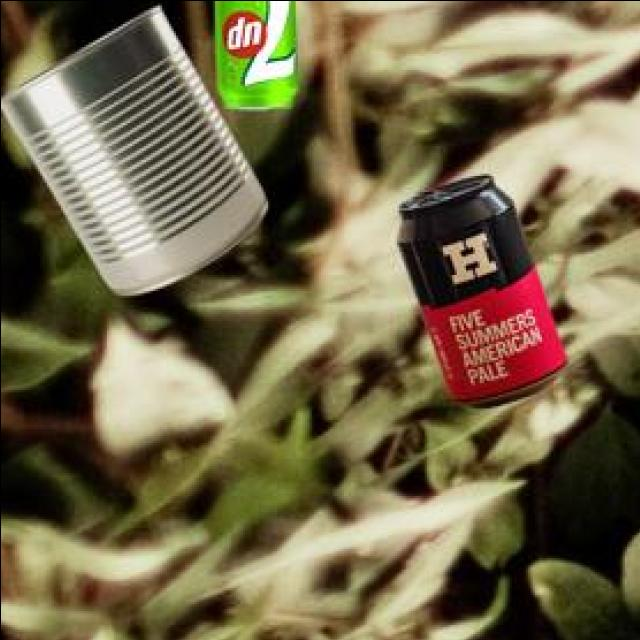logam: (1, 8, 271, 298), (399, 178, 570, 411), (218, 0, 300, 109)
